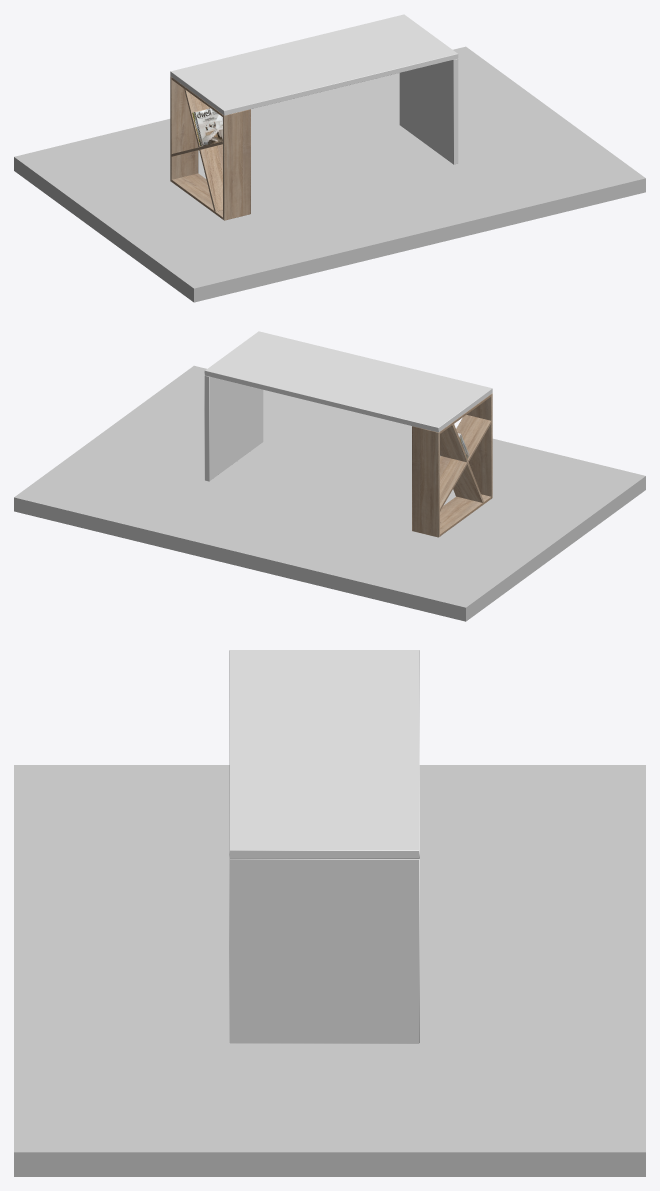
The model's file is office_desk2.glb.
3 renders of one model, top to bottom at view 1: azimuth 30°, elevation 25°; view 2: azimuth 150°, elevation 25°; view 3: azimuth 270°, elevation 25°, orthographic. The views are drawn at different scales.
Parts seen in each view (by area): view 1: Material2 (×8); view 2: Material2 (×9); view 3: Material2 (×3).
Boxes of the visible parts, x1=… form: Material2 (×8): x1=14, y1=14, x2=645, y2=302; Material2 (×9): x1=14, y1=331, x2=645, y2=621; Material2 (×3): x1=14, y1=650, x2=645, y2=1176.
Bounding box in the file's own units: 133 × 34.96 × 91.76.
Materials: 5 (2 with a texture image).
